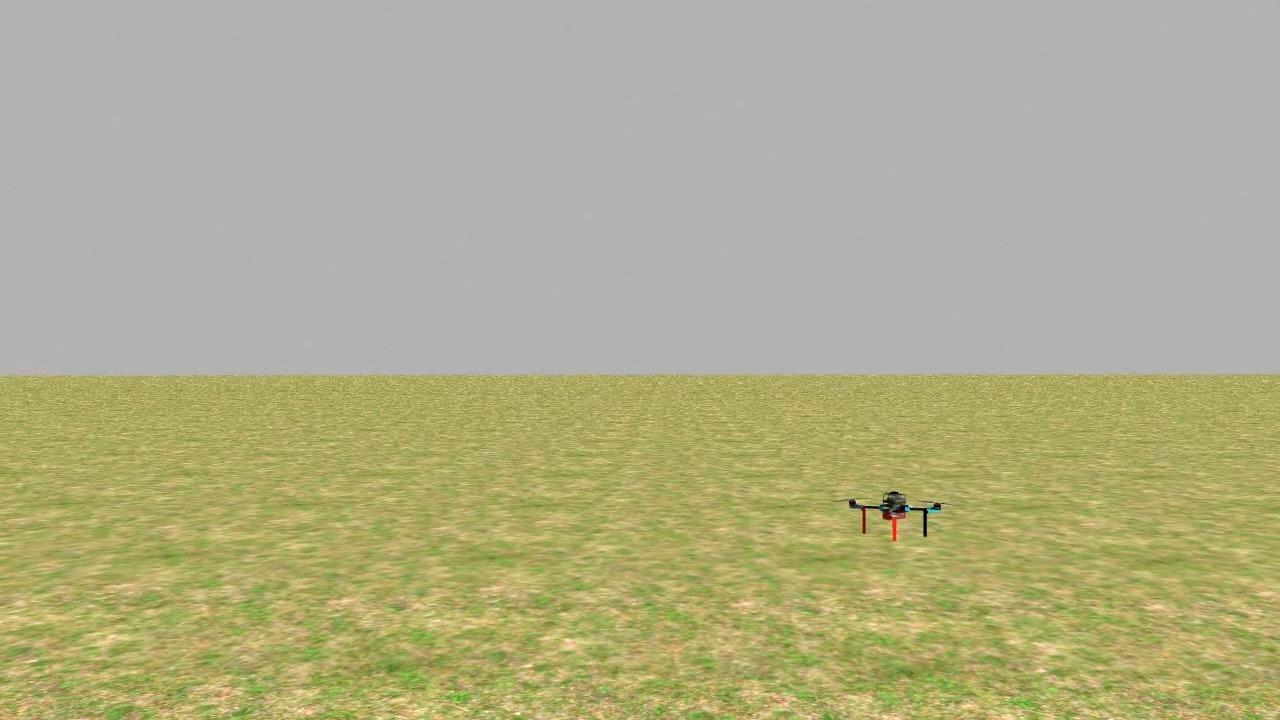UAV: (832, 477, 954, 551)
